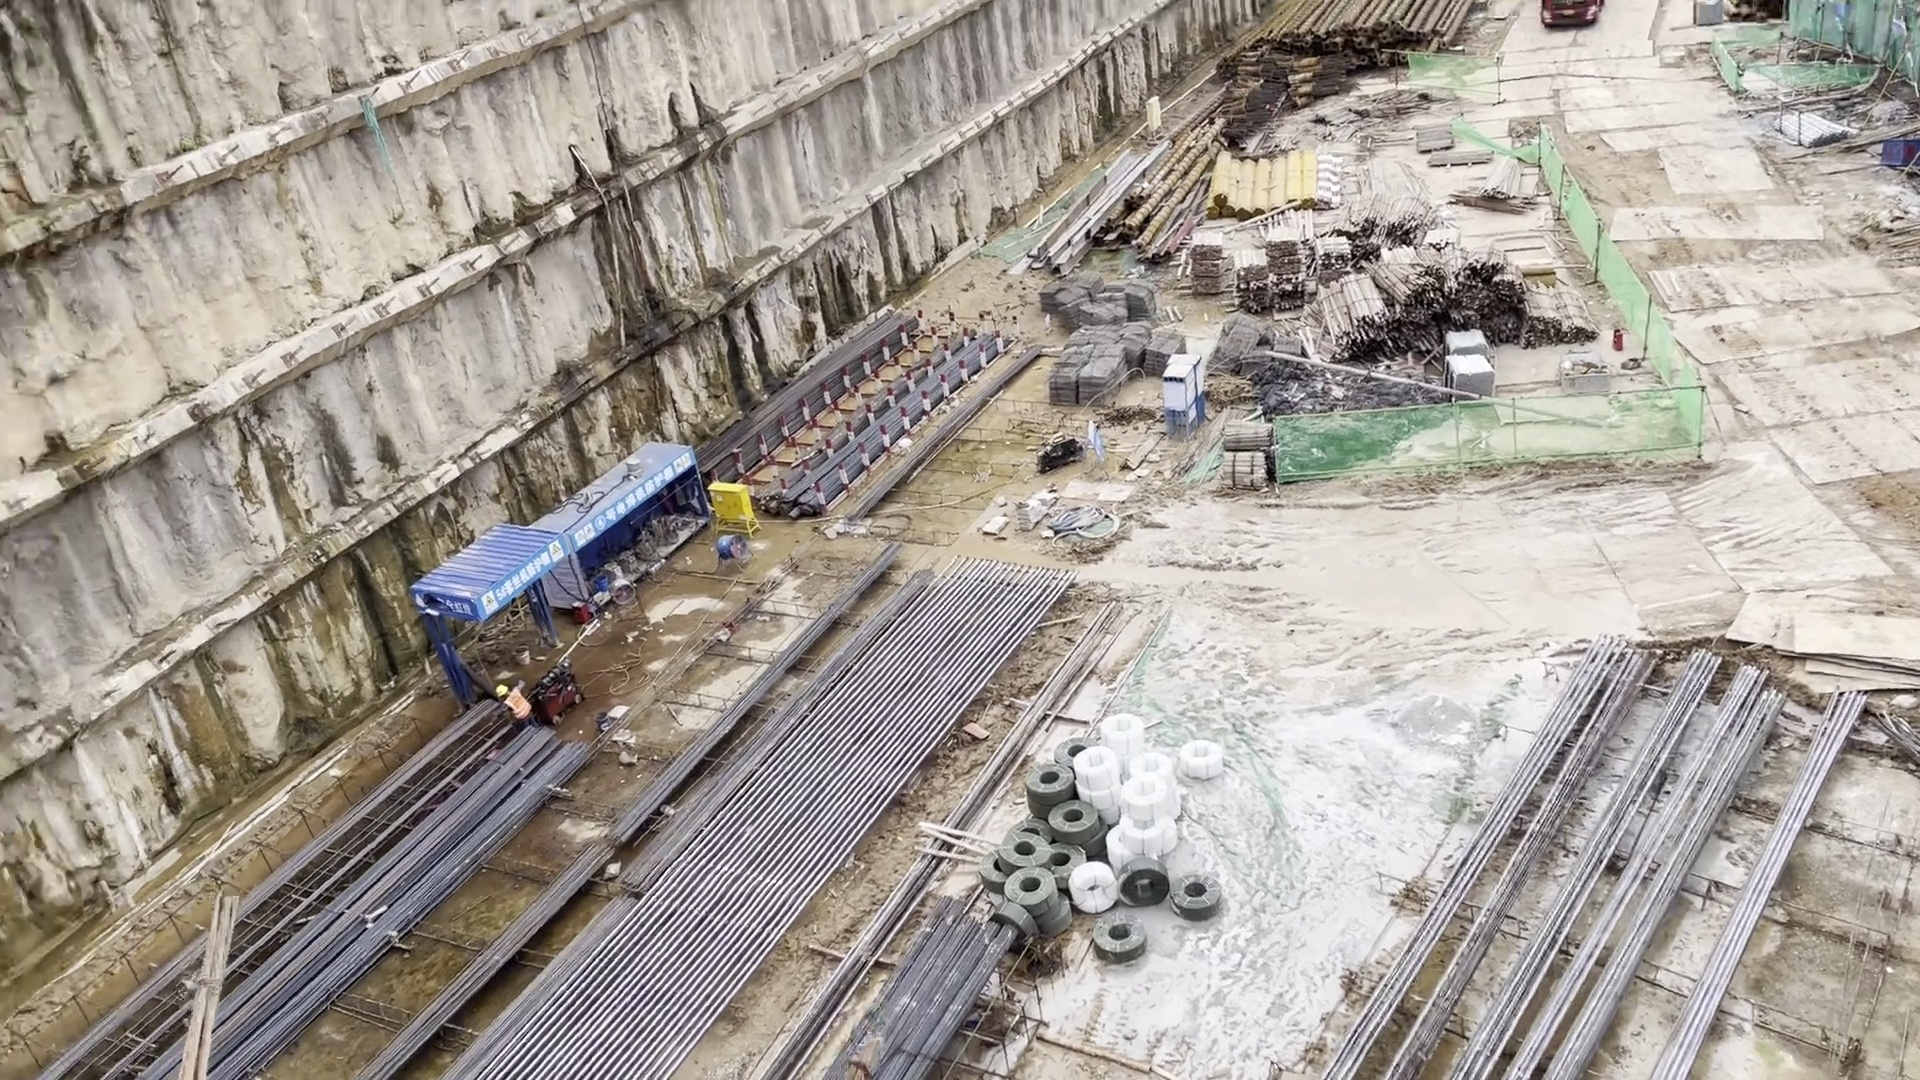ebox: (706, 480, 763, 538)
helmet: (496, 685, 508, 696)
hopper: (1558, 357, 1609, 394), (1880, 135, 1920, 169)
person: (492, 683, 535, 728)
rebar: (1311, 630, 1866, 1080), (37, 683, 591, 1080), (698, 308, 1051, 533), (828, 894, 1015, 1074)
scaffold: (1778, 104, 1861, 156), (1442, 329, 1496, 401)
slogan: (578, 448, 692, 552), (484, 535, 564, 621)
vest: (502, 692, 530, 717)
wood: (1181, 193, 1589, 348)
